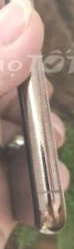scratch: (23, 71, 72, 223)
